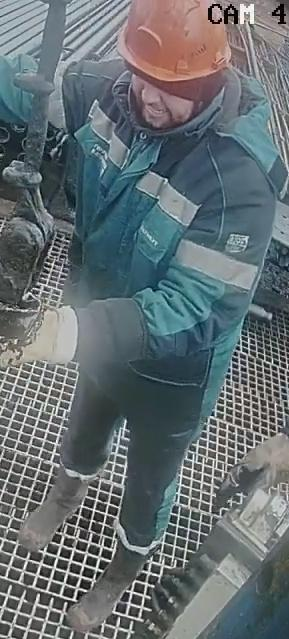gloves: (0, 303, 92, 363)
helmet: (115, 0, 232, 83)
vest: (60, 66, 278, 393)
